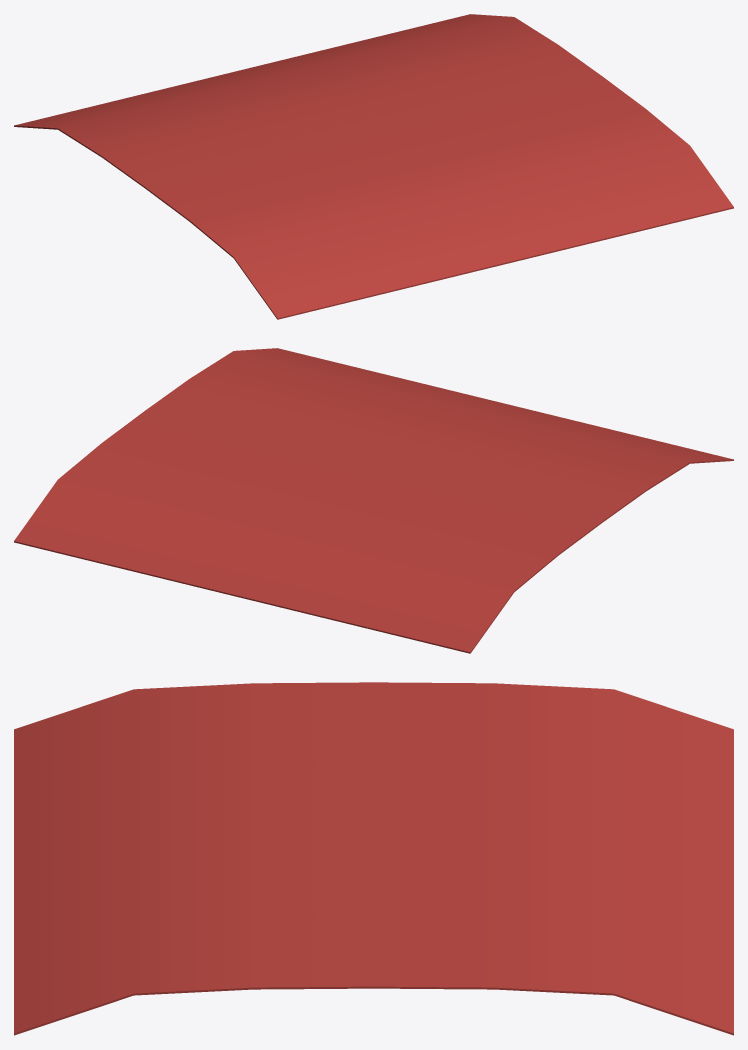
The model's file is valanced_lod1.glb.
3 views of the same model, one above another, from view 1: azimuth 30°, elevation 25°; view 2: azimuth 150°, elevation 25°; view 3: azimuth 270°, elevation 25° (orthographic). The views are drawn at different scales.
Visible parts, largest first — view 1: valanced_lod1; view 2: valanced_lod1; view 3: valanced_lod1.
Part boxes in pixels (x1=…): valanced_lod1: x1=14, y1=14, x2=733, y2=319; valanced_lod1: x1=14, y1=348, x2=733, y2=653; valanced_lod1: x1=14, y1=682, x2=733, y2=1035.
Size of the model in its own units: 1 by 0.075 by 1.
